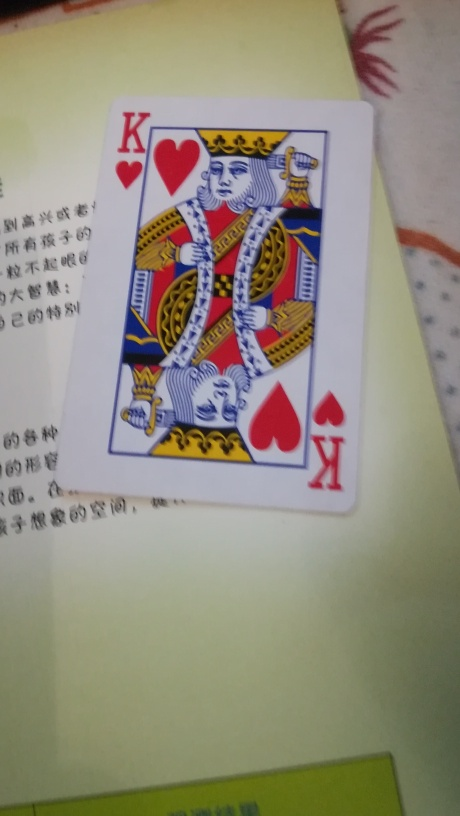hx k: (58, 95, 358, 516)
